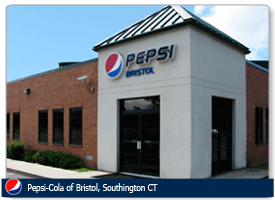pepsi: (105, 52, 122, 78), (4, 178, 21, 193)
